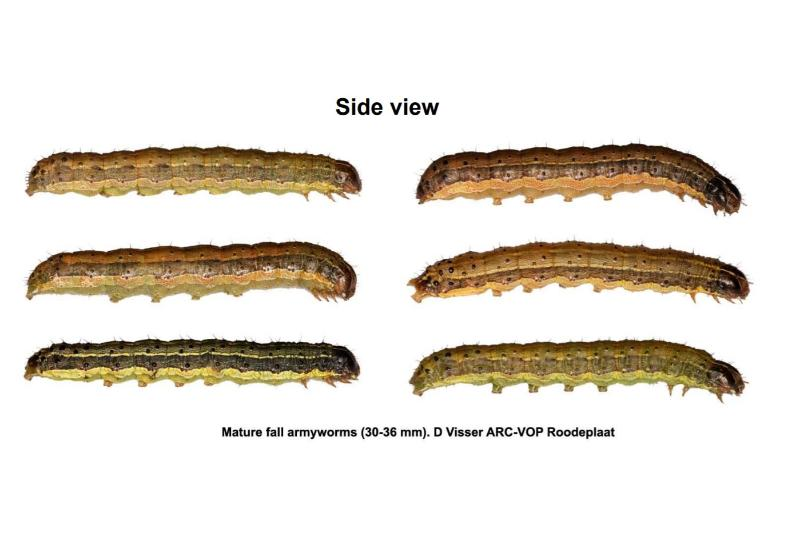fall-armyworm: (417, 145, 749, 219), (409, 340, 747, 406), (410, 242, 751, 305), (26, 243, 358, 305), (26, 148, 364, 204), (24, 340, 362, 389)
